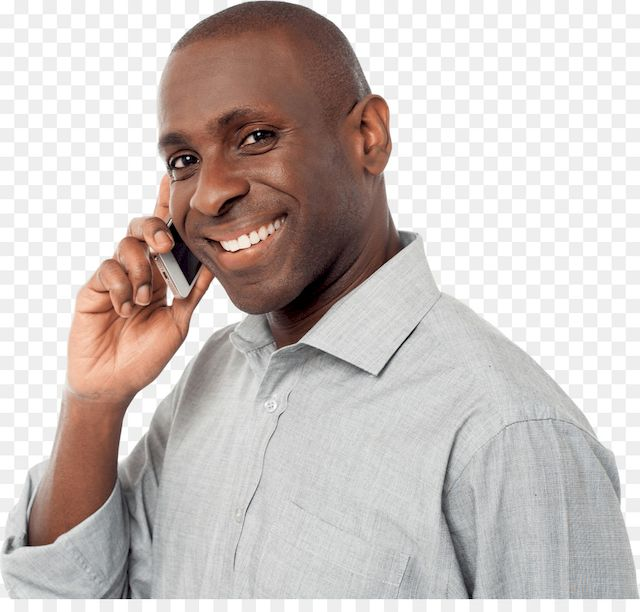phone: (133, 204, 211, 300)
talk: (71, 93, 313, 372)
